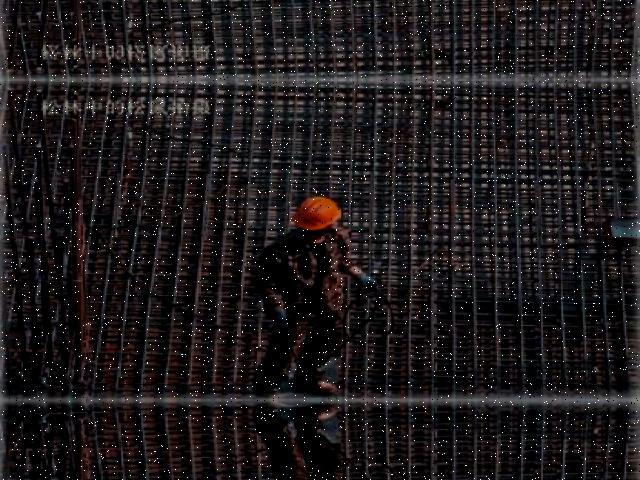Helmet: (285, 190, 346, 234)
